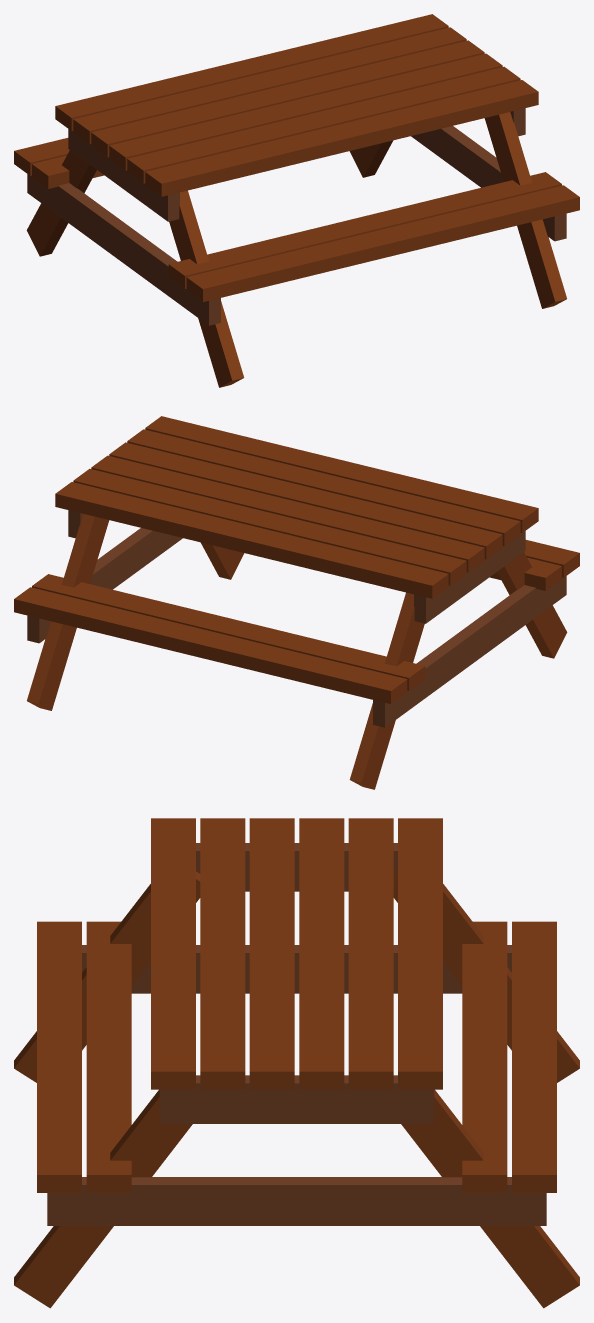
The model's file is picnic_table.glb.
3 renders of one model, top to bottom at view 1: azimuth 30°, elevation 25°; view 2: azimuth 150°, elevation 25°; view 3: azimuth 270°, elevation 25°, orthographic. The views are drawn at different scales.
Visible parts, largest first — view 1: Cube; view 2: Cube; view 3: Cube.
Boxes of the visible parts, left/top/right/bottom form: Cube: left=14, top=14, right=579, bottom=387; Cube: left=14, top=416, right=579, bottom=789; Cube: left=14, top=818, right=579, bottom=1308.
Bounding box in the file's own units: 1.2 × 0.5549 × 1.13.
